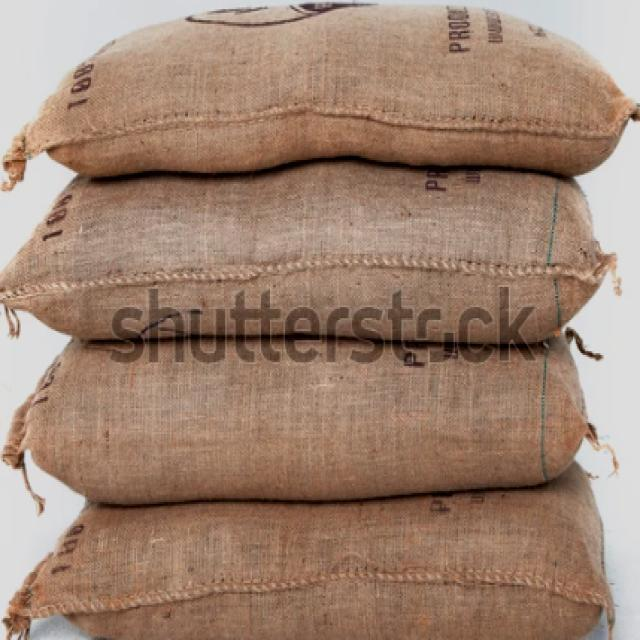gunny_bag: (3, 164, 619, 358), (0, 327, 615, 506), (14, 3, 638, 178), (3, 484, 621, 638)
